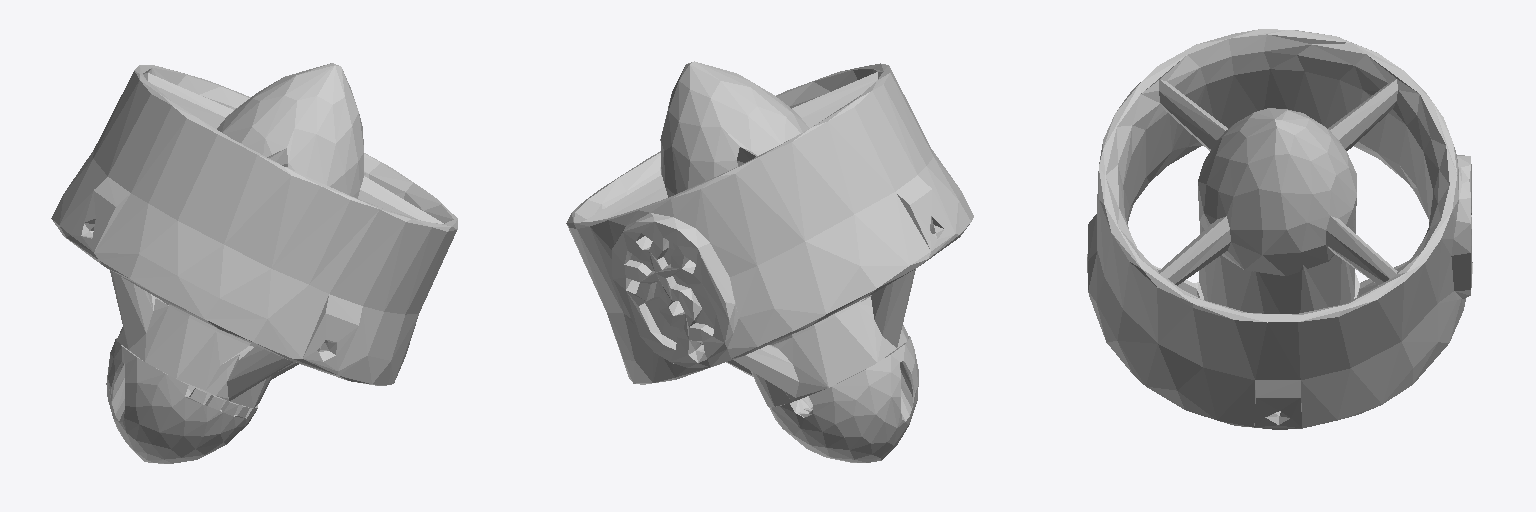
The model's file is duct_right_front.obj.
3 views of the same model, side by side, from view 1: azimuth 30°, elevation 25°; view 2: azimuth 150°, elevation 25°; view 3: azimuth 270°, elevation 25° (orthographic).
Parts seen in each view (by area): view 1: duct_right_front; view 2: duct_right_front; view 3: duct_right_front.
Boxes of the visible parts, x1,y1,x2,y2 form: duct_right_front: [51, 63, 457, 463]; duct_right_front: [566, 61, 973, 462]; duct_right_front: [1087, 29, 1472, 429].
Size of the model in its own units: 0.1023 by 0.1013 by 0.0974.